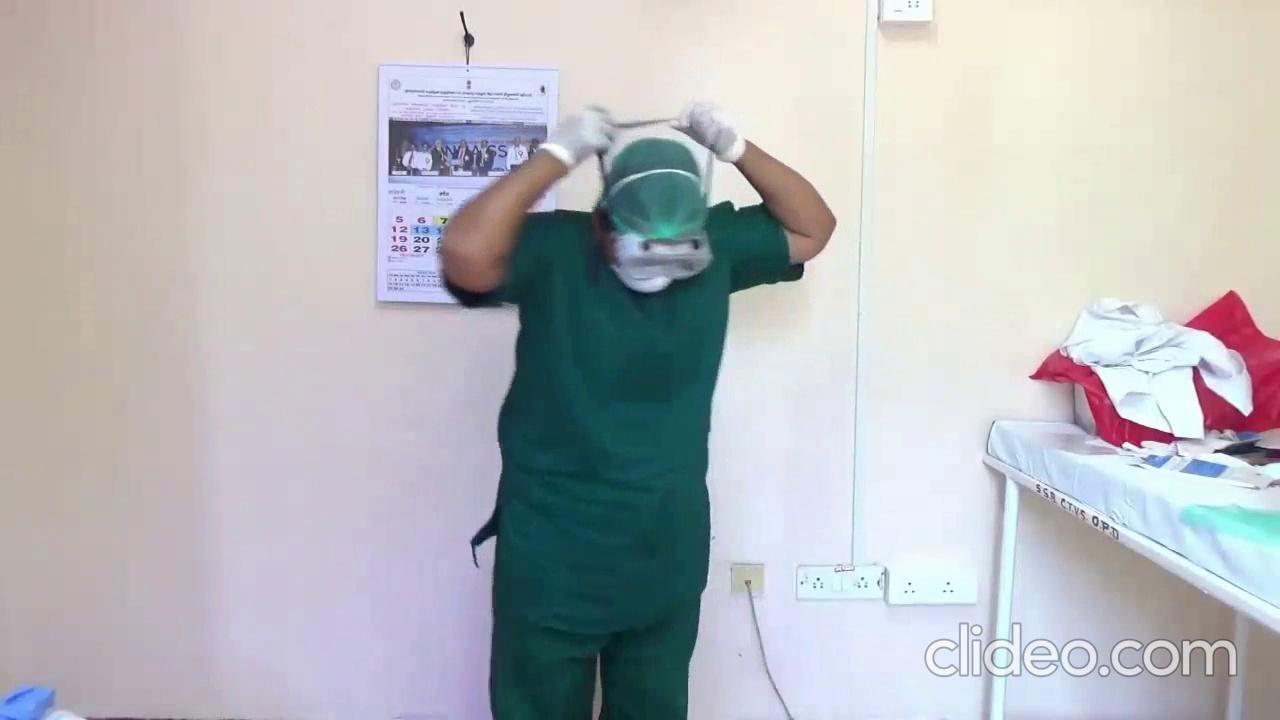Gloves On: (540, 105, 615, 168), (672, 100, 745, 162)
Goggles On: (612, 235, 712, 286)
Hairnet On: (602, 138, 708, 240)
Suit On: (458, 202, 802, 718)
